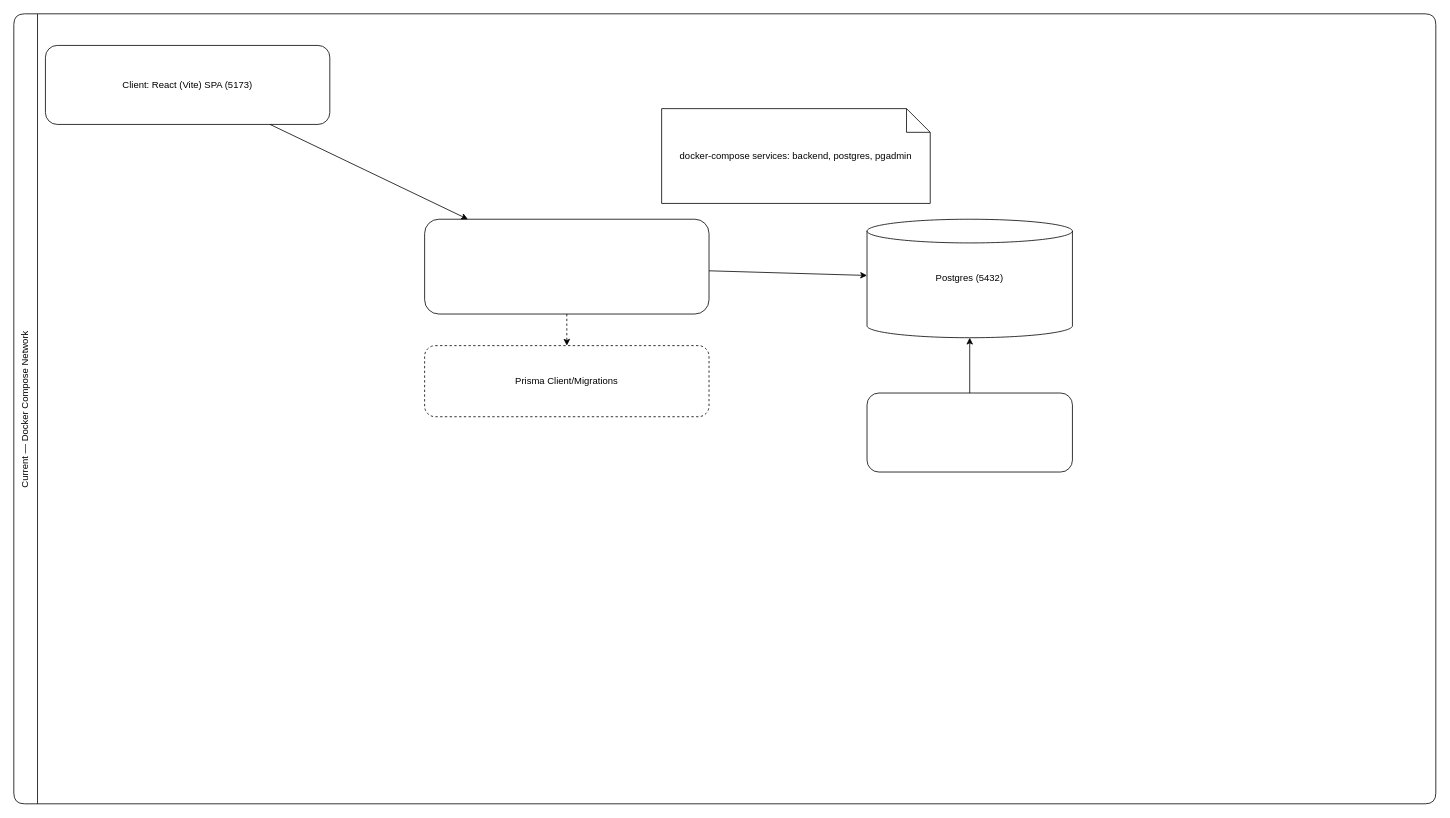
Some shapes in this 1450 by 818 pixel diagram are drawn without their labels. Each missing label, with the centre of its shape:
Backend: Node.js/Express (5000) Prisma ORM: point (566, 266)
pgAdmin (5050): point (969, 432)
